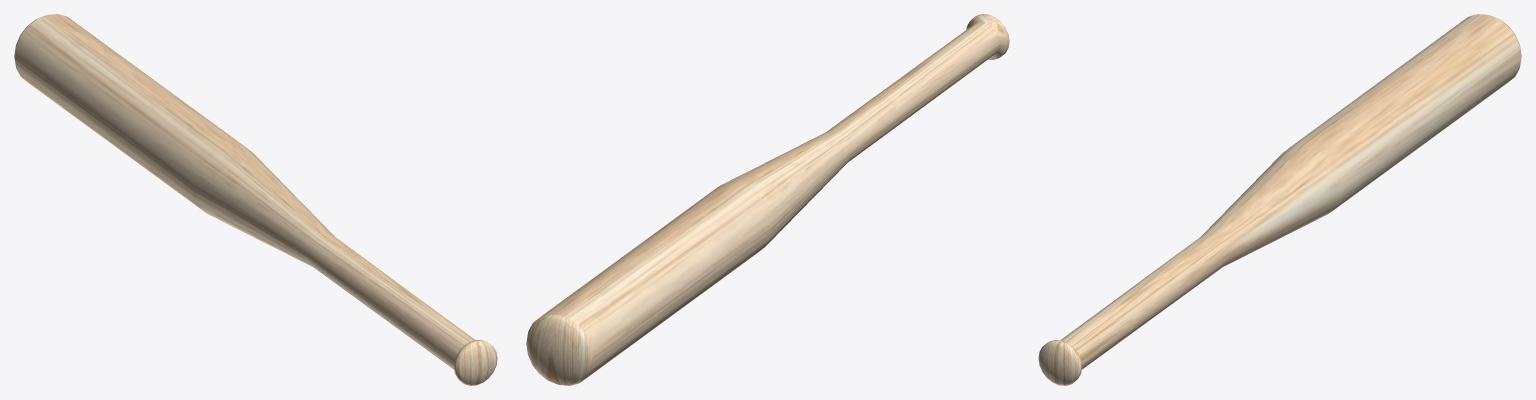
File: bat.glb
3 views of the same model, side by side, from view 1: azimuth 30°, elevation 25°; view 2: azimuth 150°, elevation 25°; view 3: azimuth 330°, elevation 25° (orthographic).
Visible parts, largest first — view 1: Bat; view 2: Bat; view 3: Bat.
Part boxes in pixels (<box>): Bat: <box>14,14,497,385</box>; Bat: <box>526,14,1009,385</box>; Bat: <box>1038,14,1521,385</box>.
Size of the model in its own units: 0.0738 by 0.0738 by 0.84.
1 material, 1 textured.
